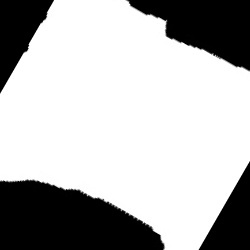spot: (1, 1, 249, 248)
